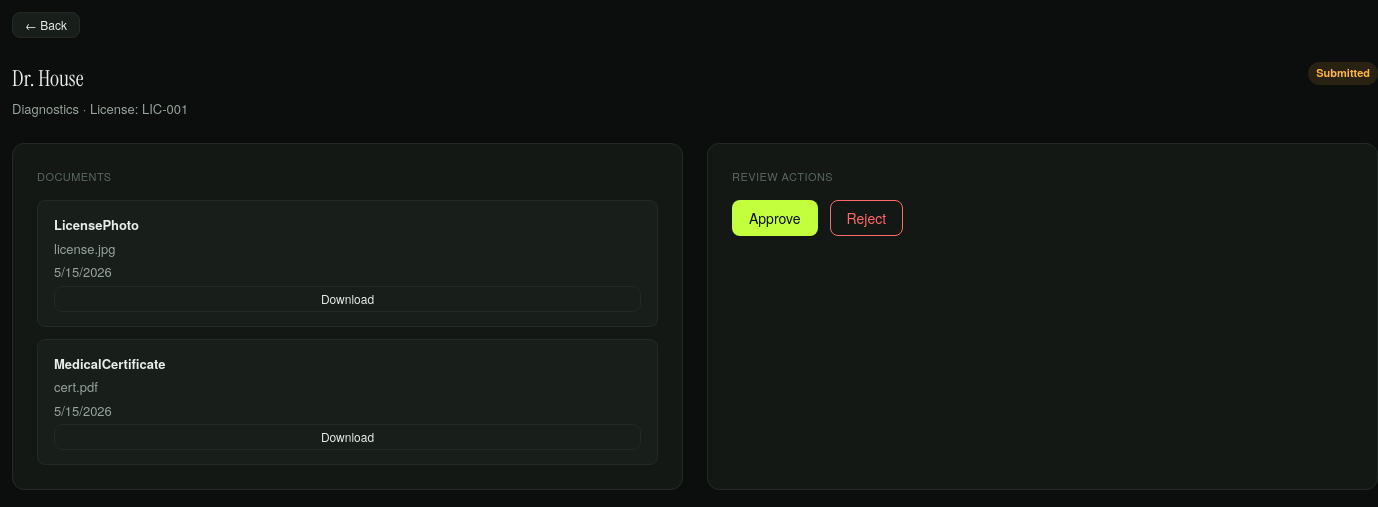
Test: KycReviewPage › hides rejection form on Cancel
Click the button "Reject": point(866, 218) top-left (830, 200), bottom-right (903, 236)
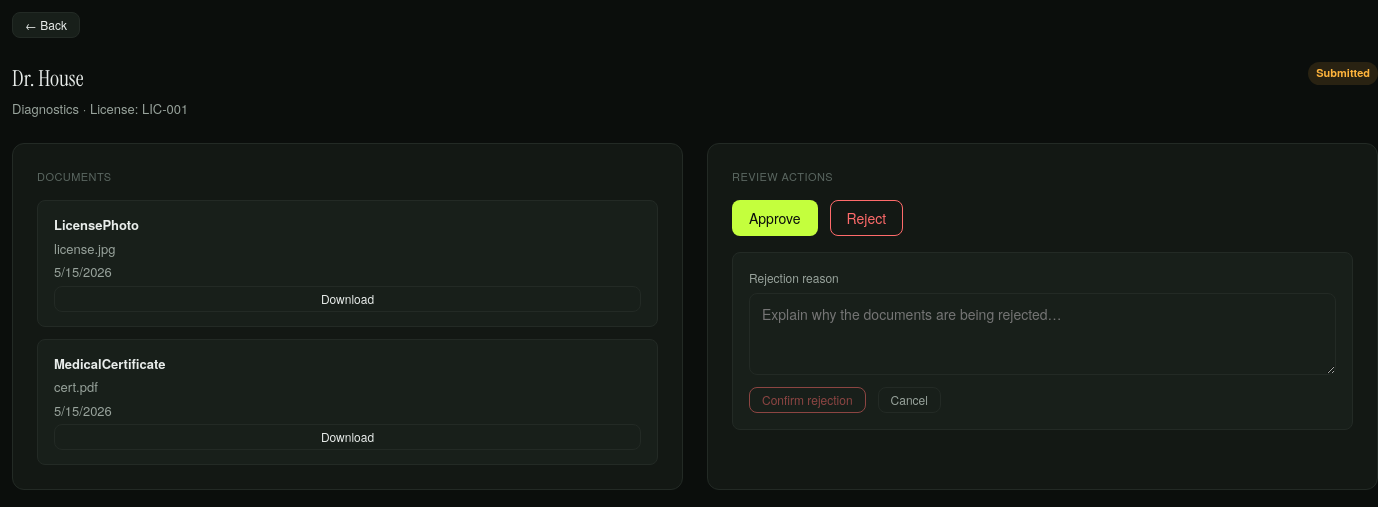
Result: the text "Rejection reason" is shown at top-left (749, 269), bottom-right (839, 286)
Click the button "Cancel": point(909, 400) top-left (878, 387), bottom-right (941, 413)
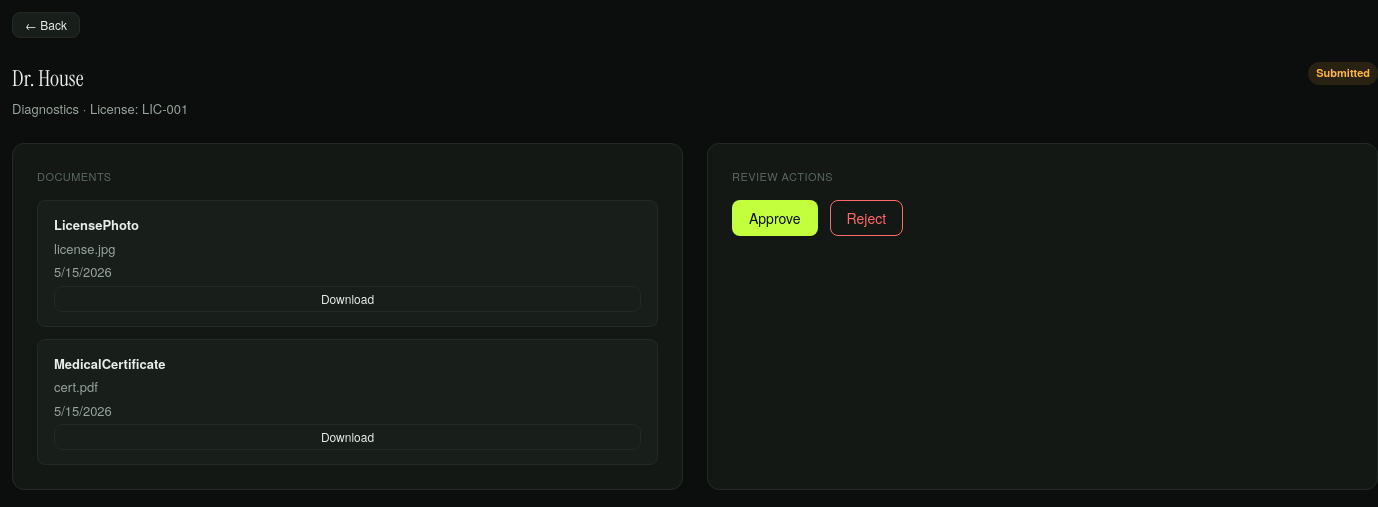
Result: the text "Rejection reason" is gone
